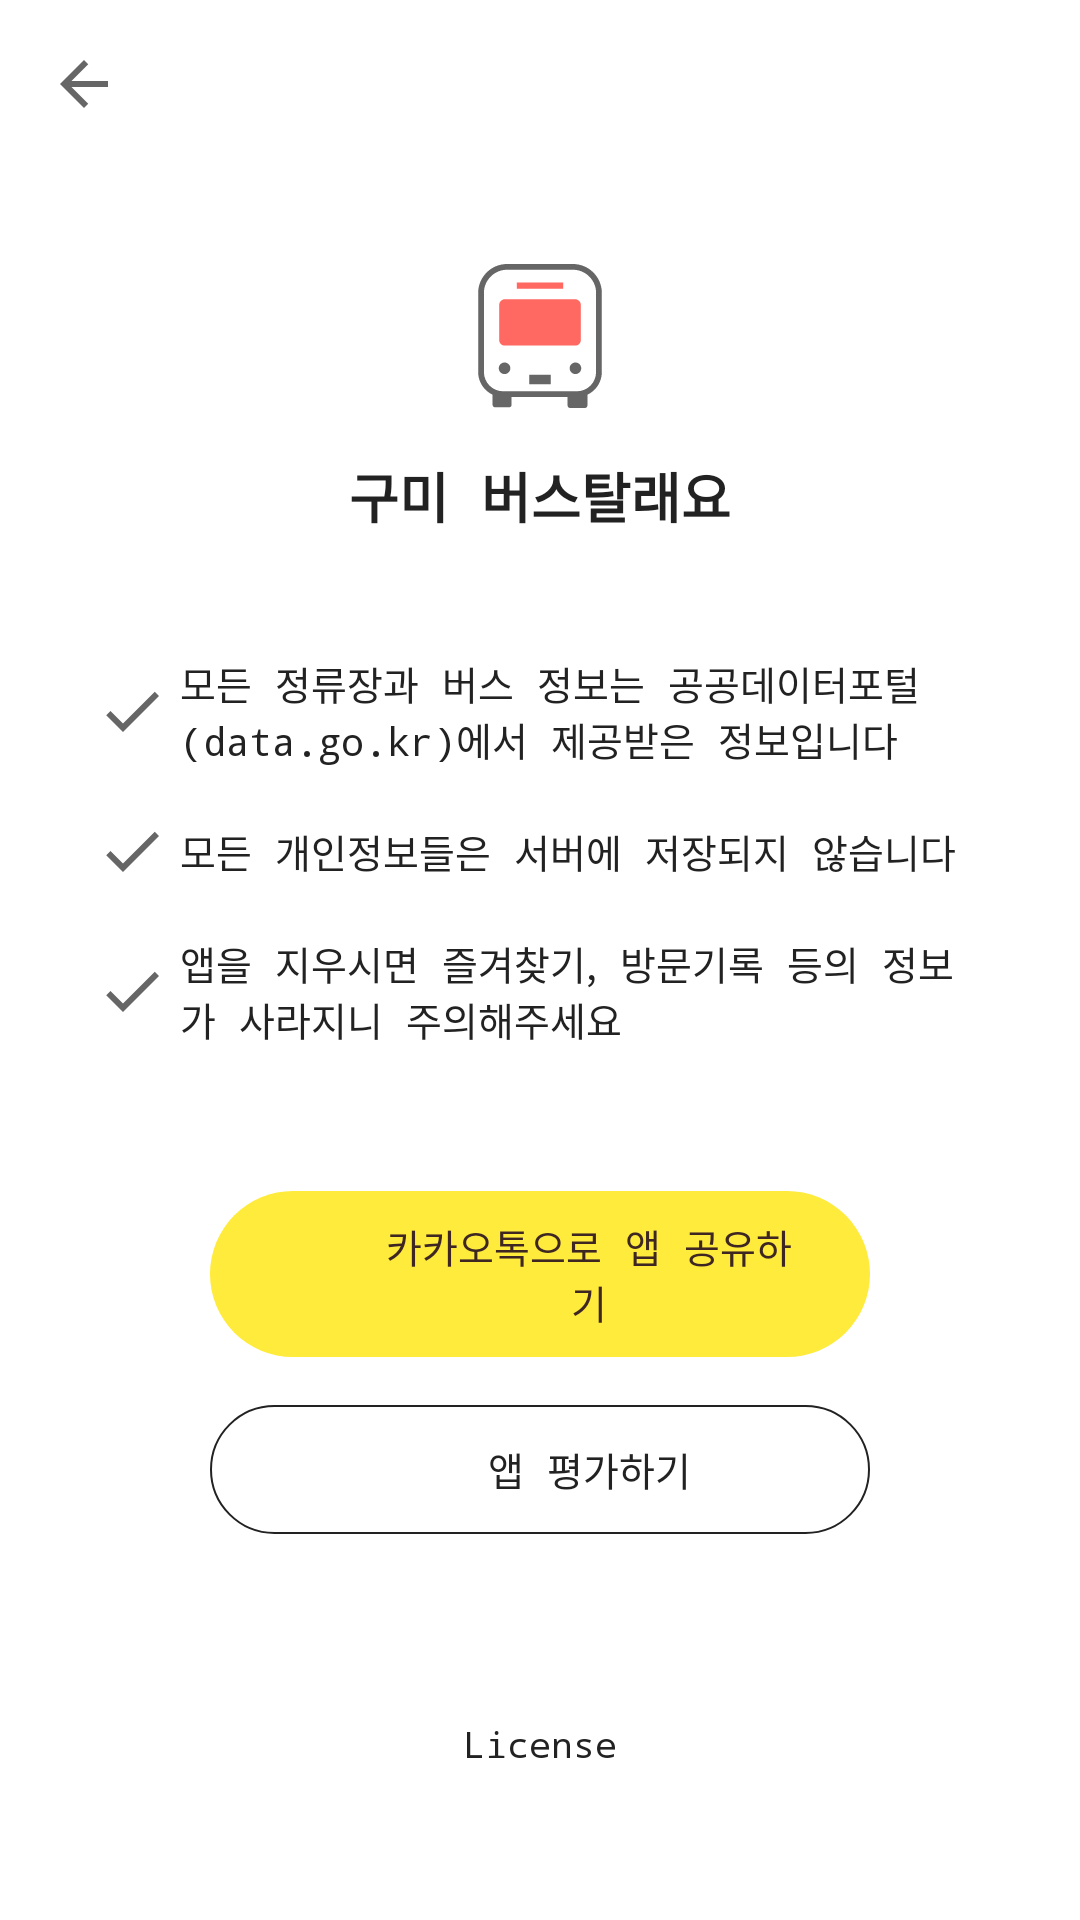

Screen size 1080*1920. Icon name, then its center in pixels as (x,y):
arrow back: (84,84)
bus: (540,336)
